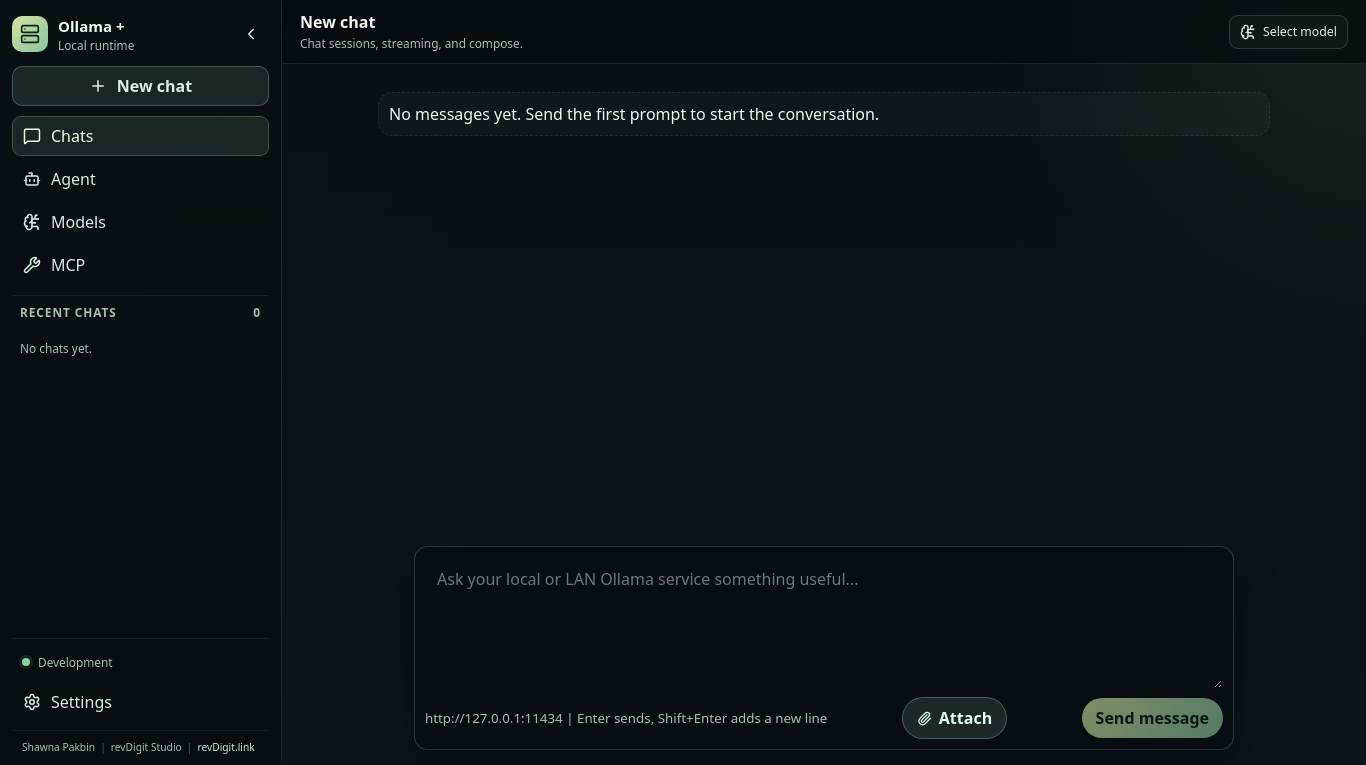
App Settings: System prompt editor › renders a labeled multi-line input reflecting the persisted value (Req 3.1, 3.2, 3.8)
Click the button "Settings" at {"x": 140, "y": 702}, box [12,682,269,722]
(page scrolled)
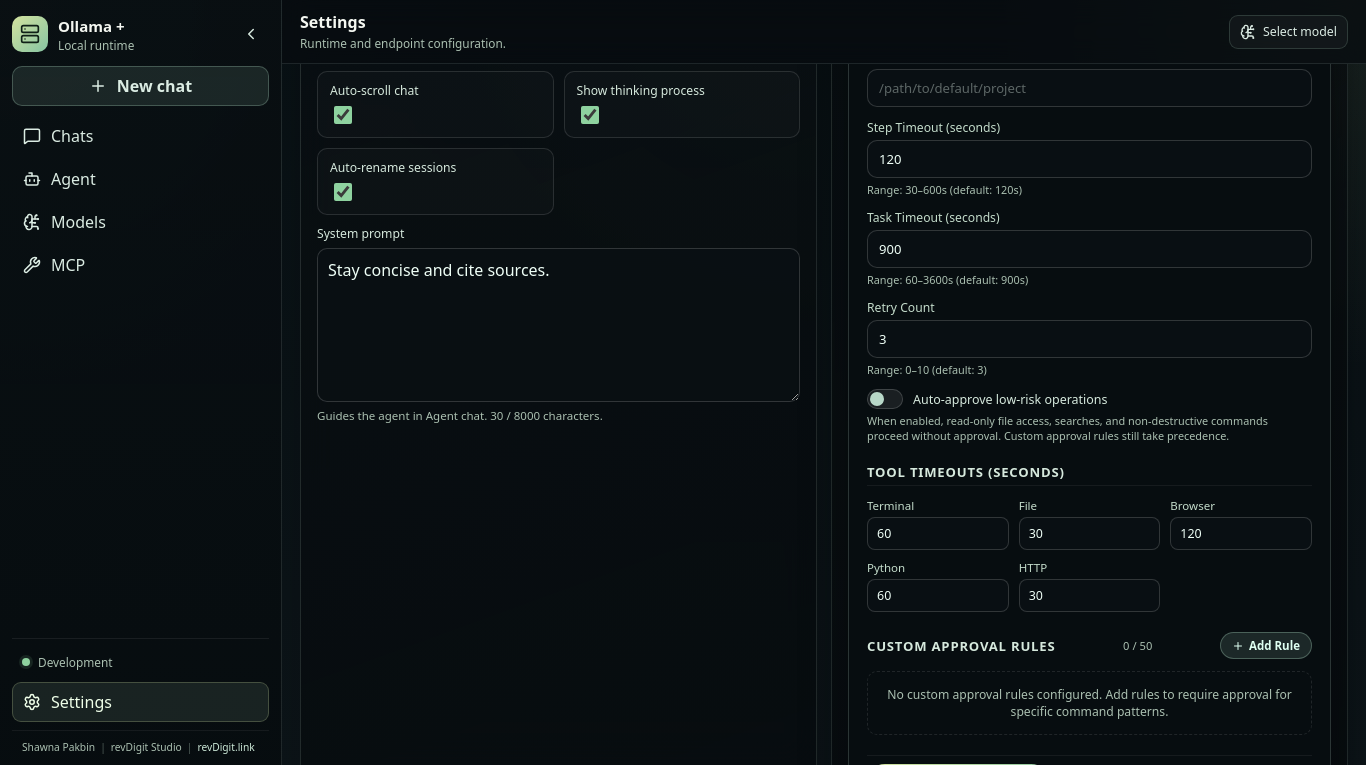
Check: the text box labelled "System prompt" holds "Stay concise and cite sources.", box [317,248,800,402]
Check: the text "Guides the agent in Agent chat. 30 / 8000 characters." is shown, box [317,408,603,423]
